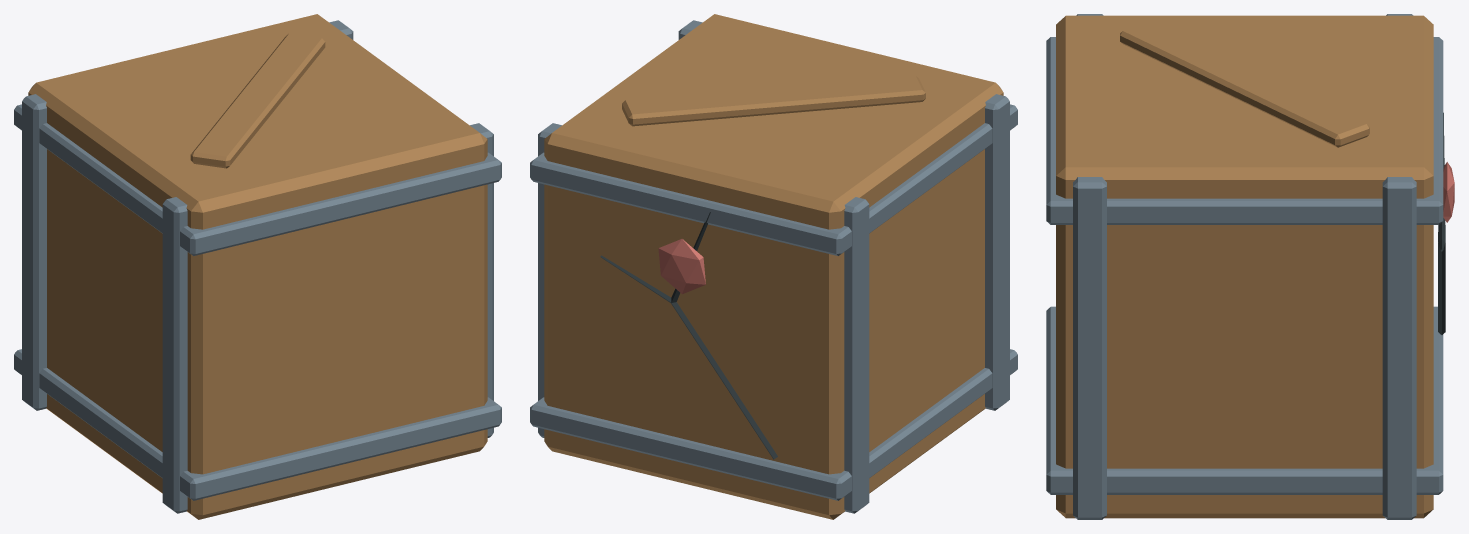
File: caixa_rachada.glb
3 views of the same model, side by side, from view 1: azimuth 30°, elevation 25°; view 2: azimuth 150°, elevation 25°; view 3: azimuth 270°, elevation 25° (orthographic). The views are drawn at different scales.
Parts seen in each view (by area): view 1: deserto_caixa_rachada; view 2: deserto_caixa_rachada; view 3: deserto_caixa_rachada.
Part boxes in pixels (left/top/right/bottom): deserto_caixa_rachada: left=14, top=14, right=501, bottom=519; deserto_caixa_rachada: left=530, top=14, right=1017, bottom=519; deserto_caixa_rachada: left=1046, top=14, right=1454, bottom=519.
Bounding box in the file's own units: 0.842 × 0.832 × 0.8433.
